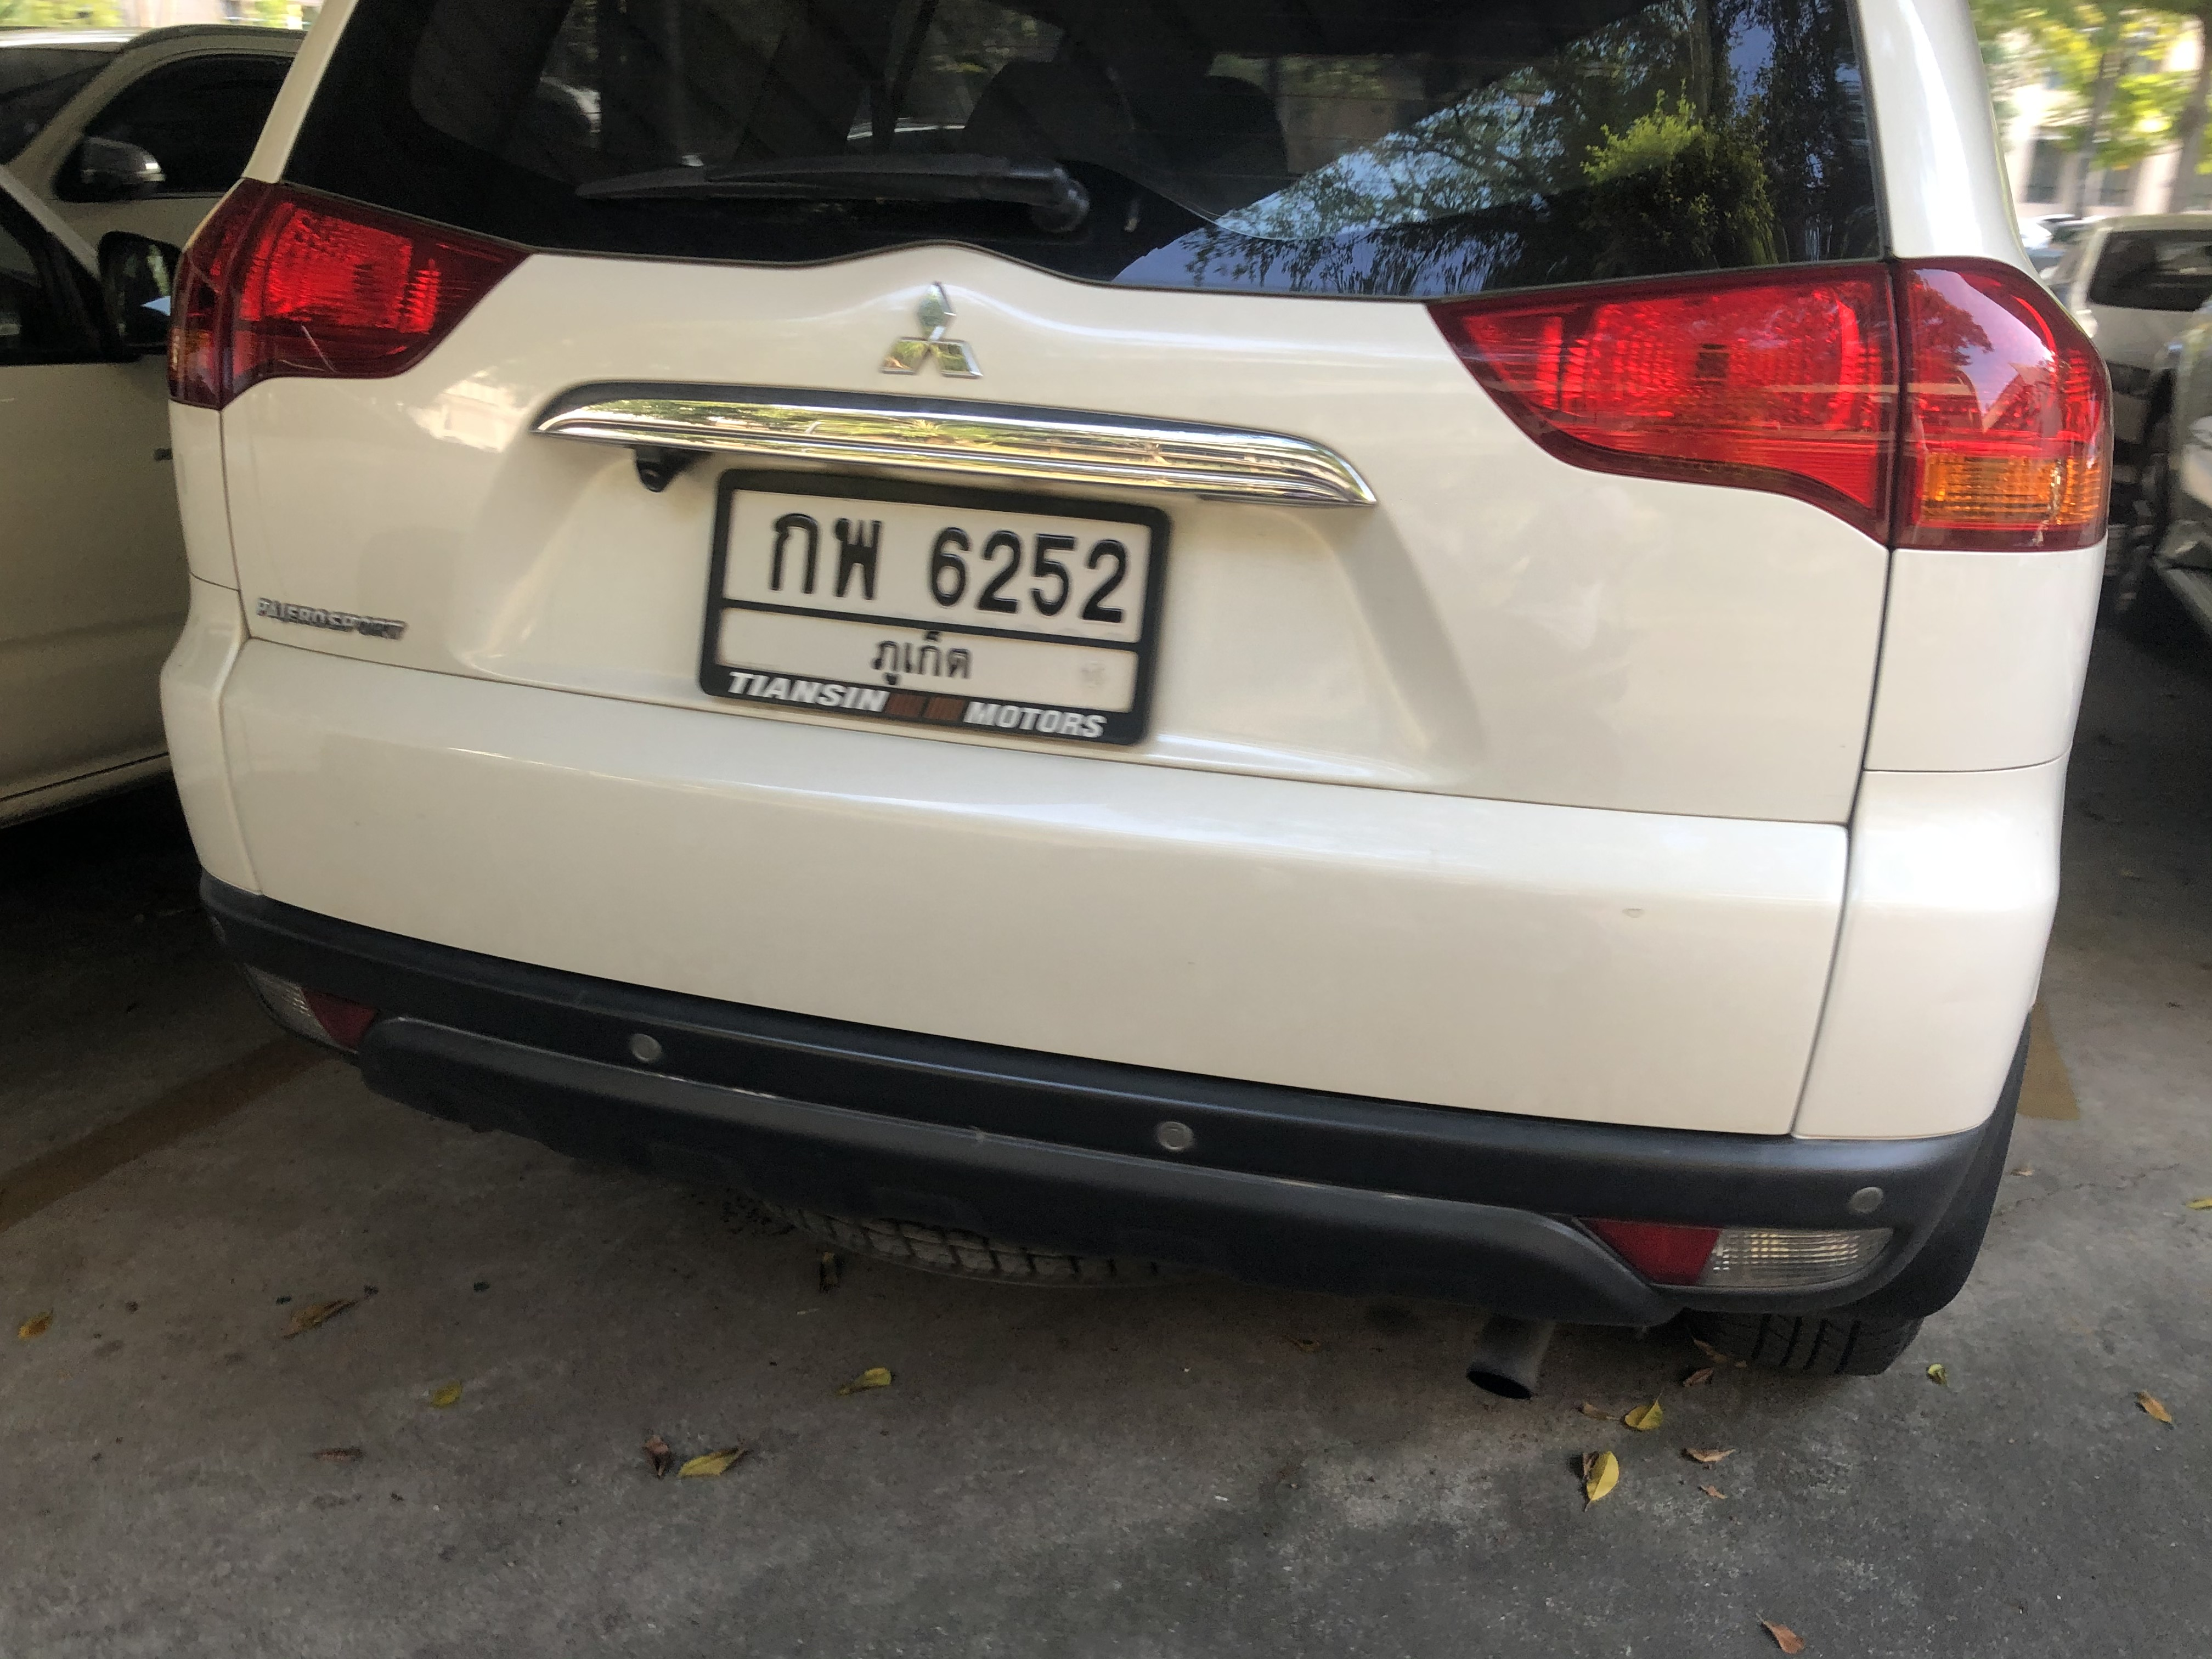in: (716, 490, 1148, 713)
out: (697, 458, 1169, 749)
